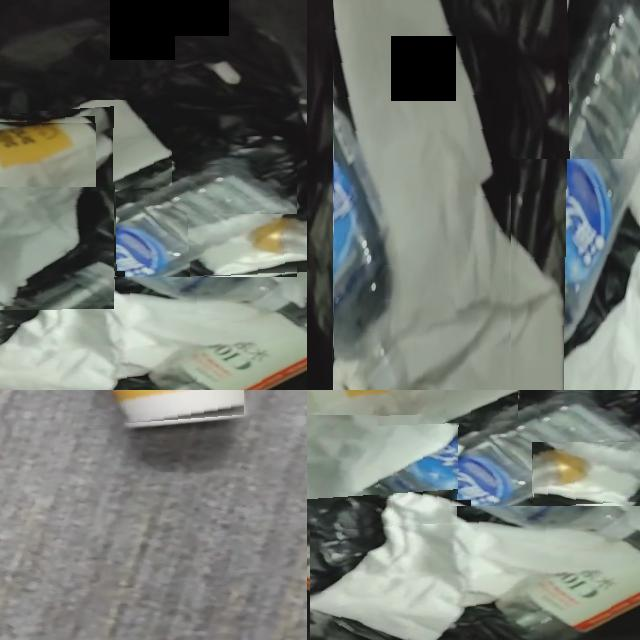bottle: (481, 0, 640, 390), (336, 391, 640, 544), (0, 163, 297, 315), (307, 527, 471, 635), (0, 337, 125, 390), (250, 222, 307, 257)
dixie_cup: (188, 214, 307, 276), (0, 123, 96, 170)
paper: (334, 0, 558, 390), (310, 506, 640, 640), (0, 277, 307, 390), (0, 113, 114, 307), (307, 390, 460, 533), (27, 100, 173, 193), (534, 442, 640, 504), (425, 390, 518, 424)
